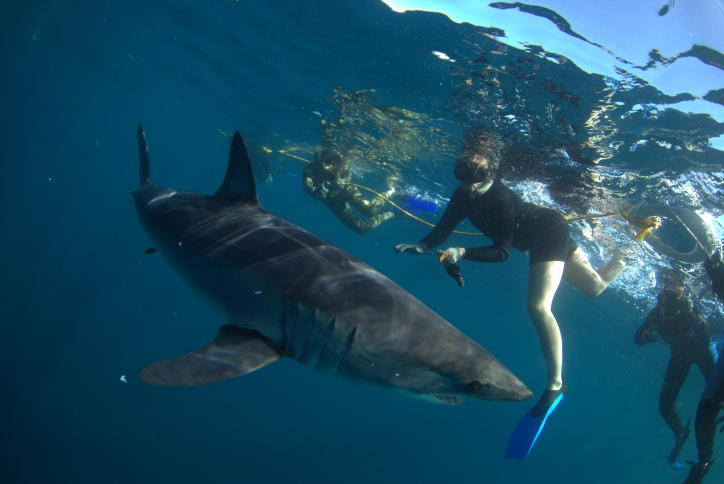Mako: (111, 105, 540, 435)
